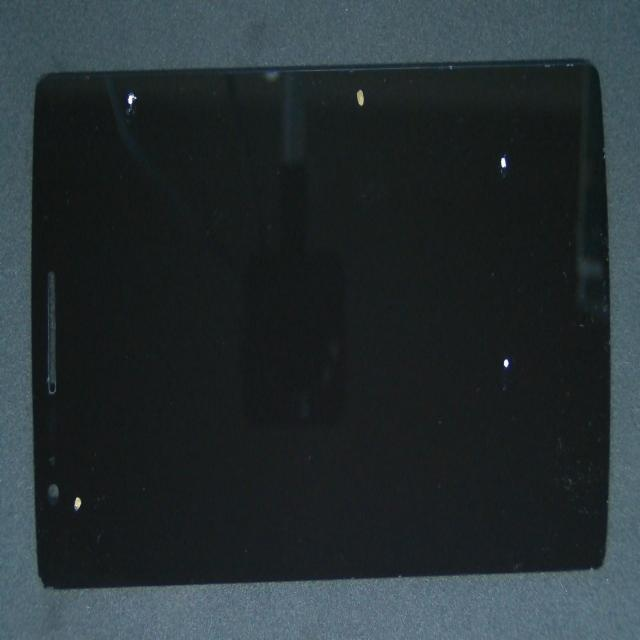stain: (206, 232, 640, 586), (210, 106, 640, 274), (136, 63, 531, 174), (0, 281, 102, 640), (47, 110, 202, 191)
